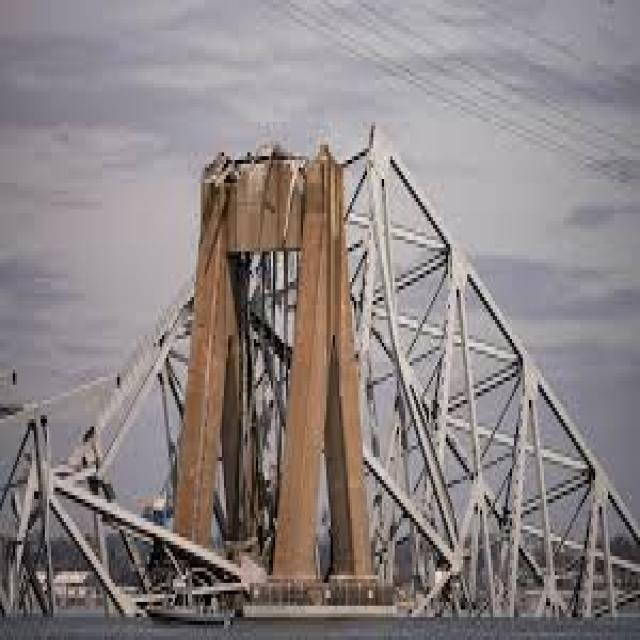bridge collapse: (0, 61, 490, 558)
